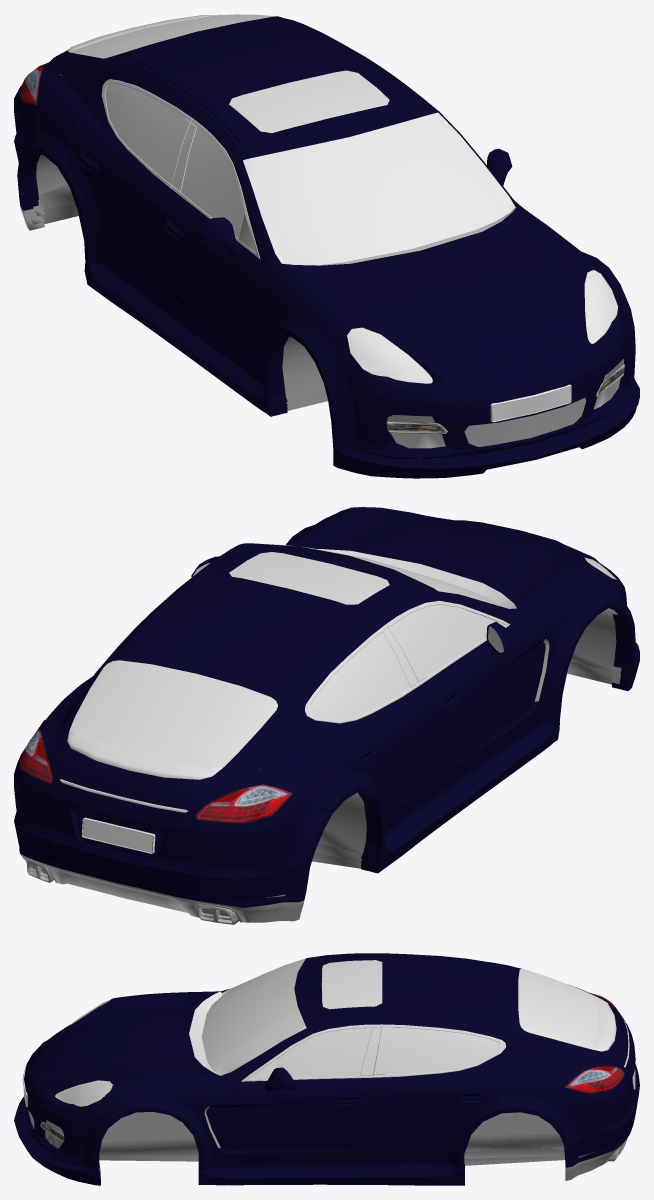
The model's file is Cheetah.fbx.
3 renders of one model, top to bottom at view 1: azimuth 30°, elevation 25°; view 2: azimuth 150°, elevation 25°; view 3: azimuth 270°, elevation 25°, orthographic. The views are drawn at different scales.
Visible parts, largest first — view 1: body, window, kit02_body, kit04_body, static_objects, kit02_objects, lights_glass, kit01_body, kit01_objects, kit03_objects, kit03_body, kit04_objects; view 2: body, window, kit02_body, kit04_body, static_objects, standart_objects, kit04_objects, kit01_body, rear_lights, kit02_objects, kit03_body; view 3: body, window, kit02_body, kit04_body, kit02_objects, static_objects, kit01_body, standart_objects, kit04_objects, rear_lights, lights_glass, kit01_objects.
Part boxes in pixels (x1,y1,x2,y2): body: (14, 16, 631, 458); window: (70, 14, 510, 265); kit02_body: (15, 19, 625, 460); kit04_body: (17, 131, 639, 478); static_objects: (60, 14, 571, 422); kit02_objects: (32, 183, 624, 448); lights_glass: (347, 270, 617, 383); kit01_body: (193, 254, 287, 405); kit01_objects: (38, 184, 325, 398); kit03_objects: (28, 154, 77, 224); kit03_body: (14, 100, 371, 454); kit04_objects: (20, 160, 327, 410); body: (14, 507, 626, 897); window: (69, 543, 503, 767); kit02_body: (14, 552, 624, 907); kit04_body: (18, 525, 639, 902); static_objects: (60, 549, 516, 853); standart_objects: (40, 614, 621, 911); kit04_objects: (26, 608, 617, 924); kit01_body: (361, 639, 545, 862); rear_lights: (19, 729, 292, 822); kit02_objects: (20, 661, 612, 919); kit03_body: (14, 608, 628, 867); body: (26, 953, 639, 1169); window: (201, 959, 599, 1077); kit02_body: (22, 966, 638, 1166); kit04_body: (14, 1090, 633, 1185); kit02_objects: (28, 1110, 630, 1167); static_objects: (22, 958, 635, 1106); kit01_body: (206, 1102, 318, 1153); standart_objects: (33, 1091, 593, 1174); kit04_objects: (99, 1137, 627, 1180); rear_lights: (565, 992, 624, 1093); lights_glass: (56, 999, 112, 1106); kit01_objects: (100, 1136, 564, 1178).
Size of the model in its own units: 1.96 by 1.27 by 4.59.
5 materials, 2 textured.
